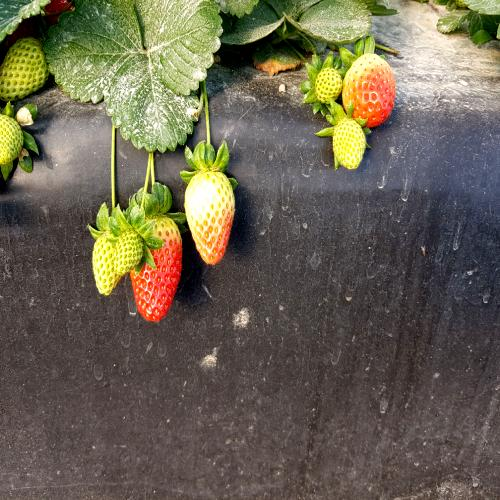partially-ripe: (128, 214, 188, 330), (186, 168, 239, 262), (341, 47, 400, 128)
